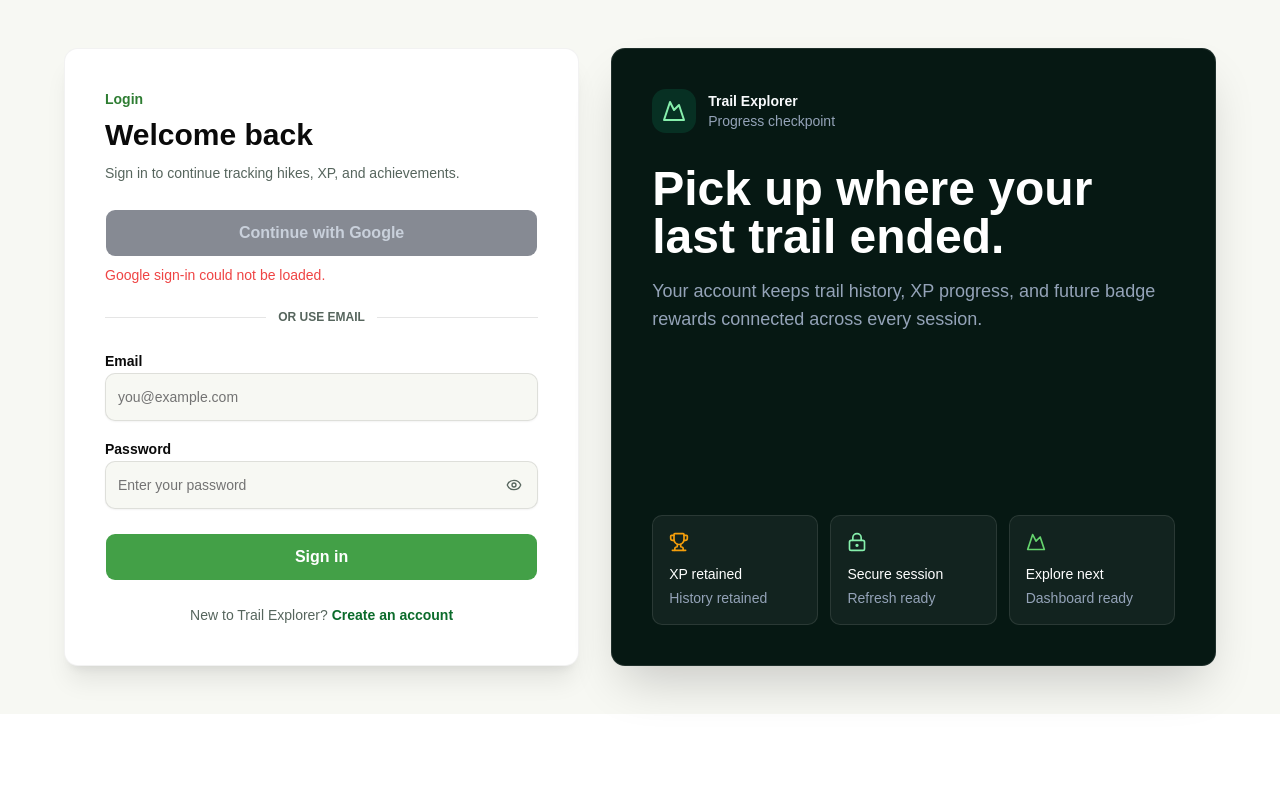
Test: LoginPage › shows validation messages when submitted empty
The image size is (1280, 800).
Click the button "Sign in" at coordinates (322, 557), box [105,533,538,581]
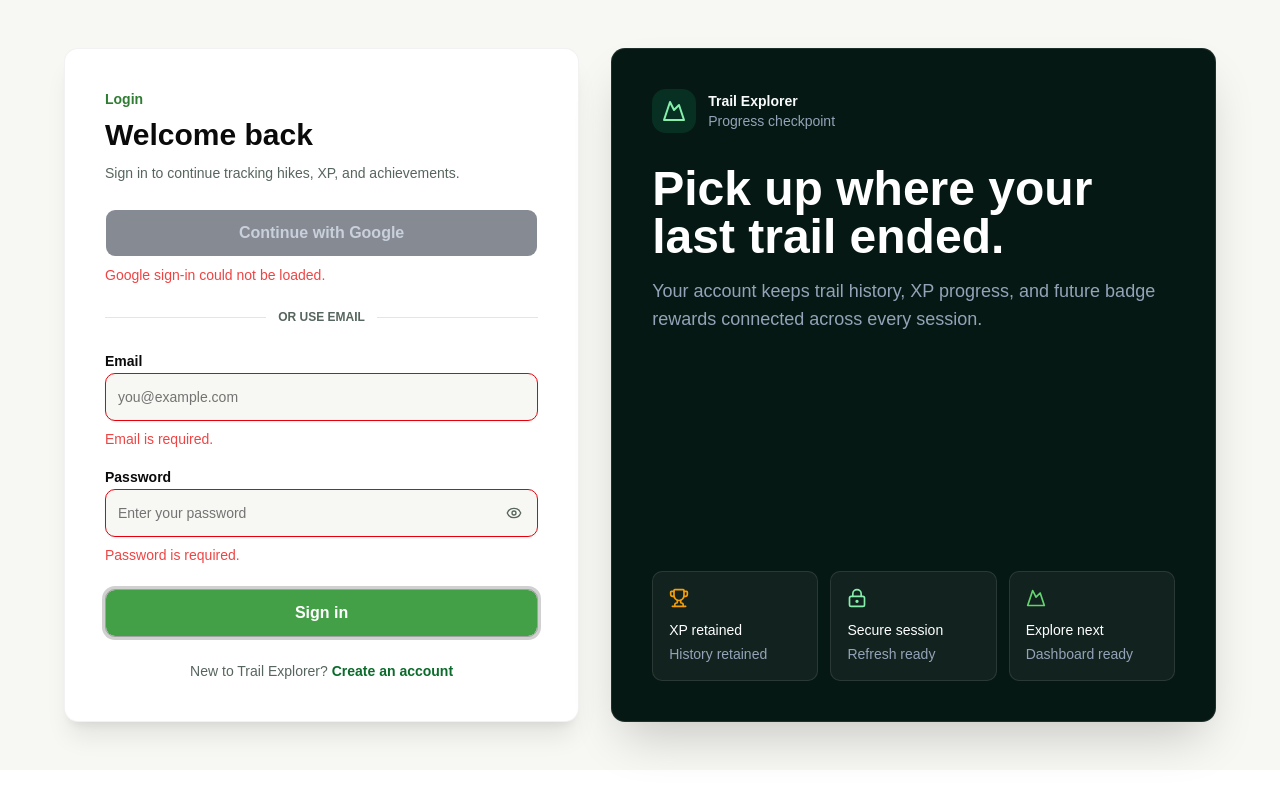
Expected: the text "Email is required." is shown, [105,431,213,447]
Expected: the text "Password is required." is shown, [105,547,240,563]
